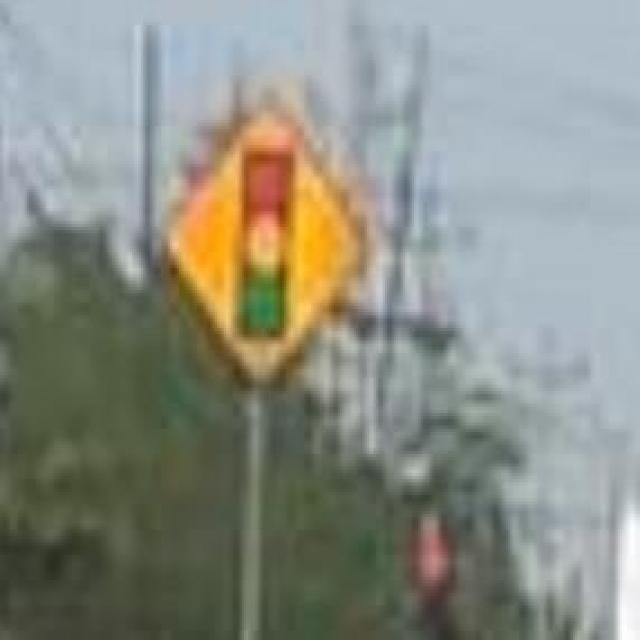traffic sign: (170, 101, 358, 382)
